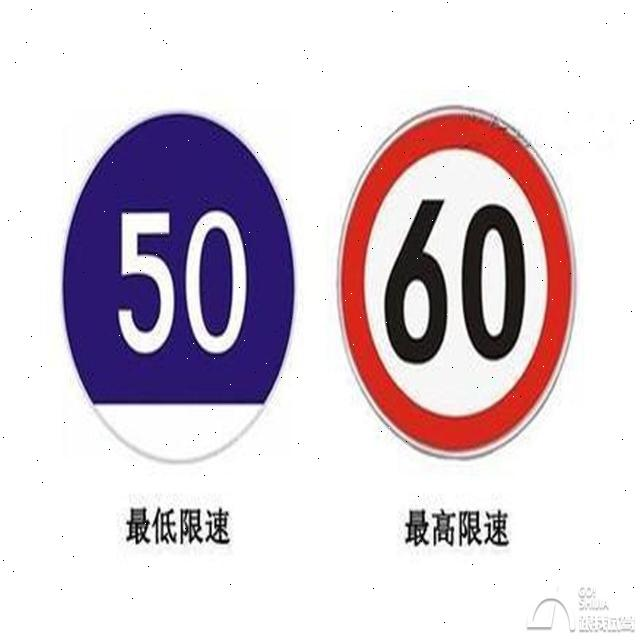speed limit 50: (61, 114, 296, 464)
speed limit 60: (334, 107, 578, 462)
